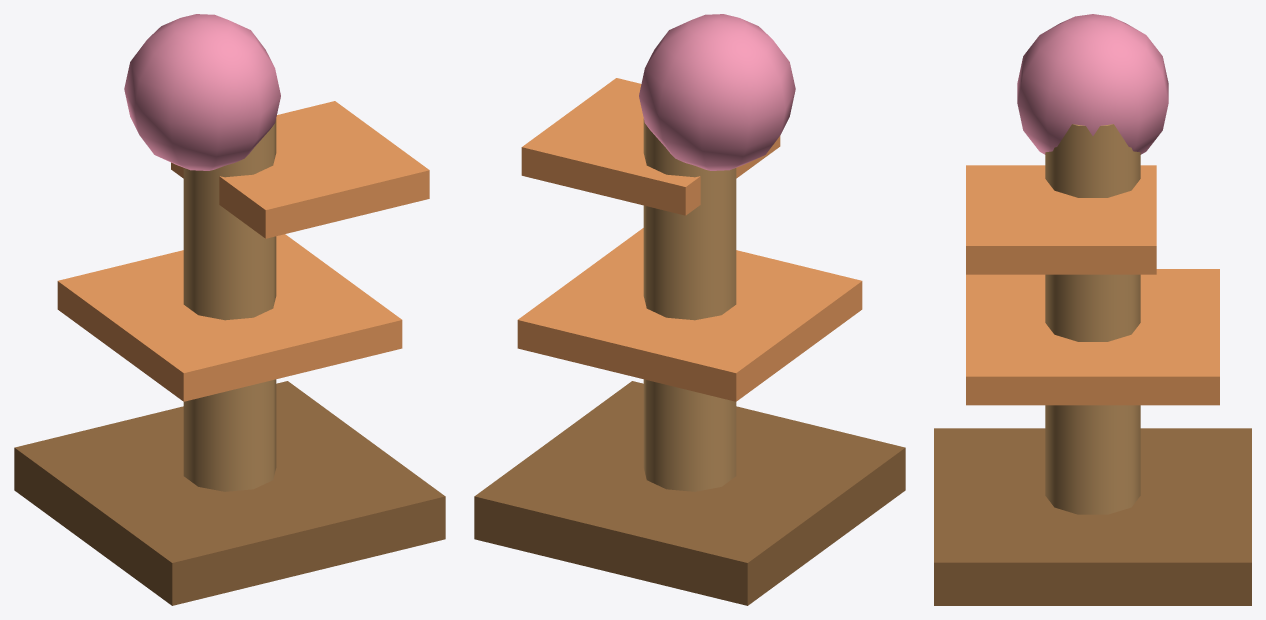
The model's file is cat_tree.glb.
3 views of the same model, side by side, from view 1: azimuth 30°, elevation 25°; view 2: azimuth 150°, elevation 25°; view 3: azimuth 270°, elevation 25° (orthographic).
Visible parts, largest first — view 1: cat_tree; view 2: cat_tree; view 3: cat_tree.
Boxes of the visible parts, x1=… form: cat_tree: x1=14, y1=14, x2=445, y2=605; cat_tree: x1=474, y1=14, x2=905, y2=605; cat_tree: x1=934, y1=14, x2=1251, y2=605.
Size of the model in its own units: 20 by 35 by 20.
